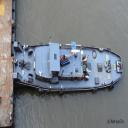tugboat: (12, 39, 125, 95)
